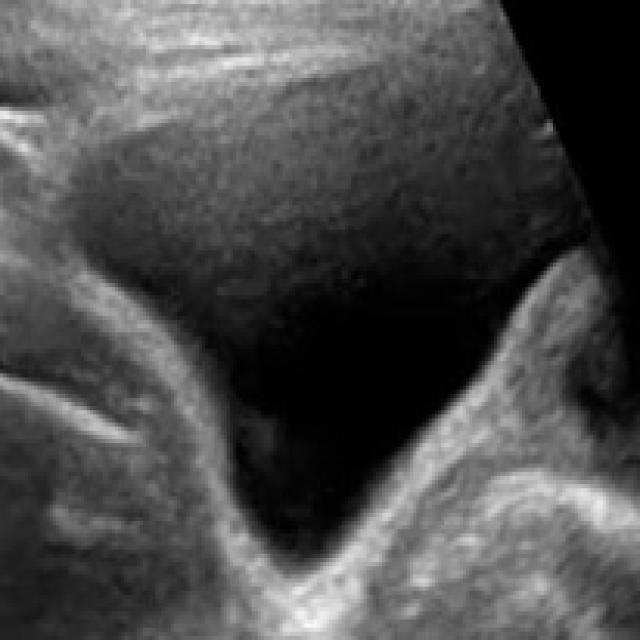bladder: (23, 6, 596, 611)
